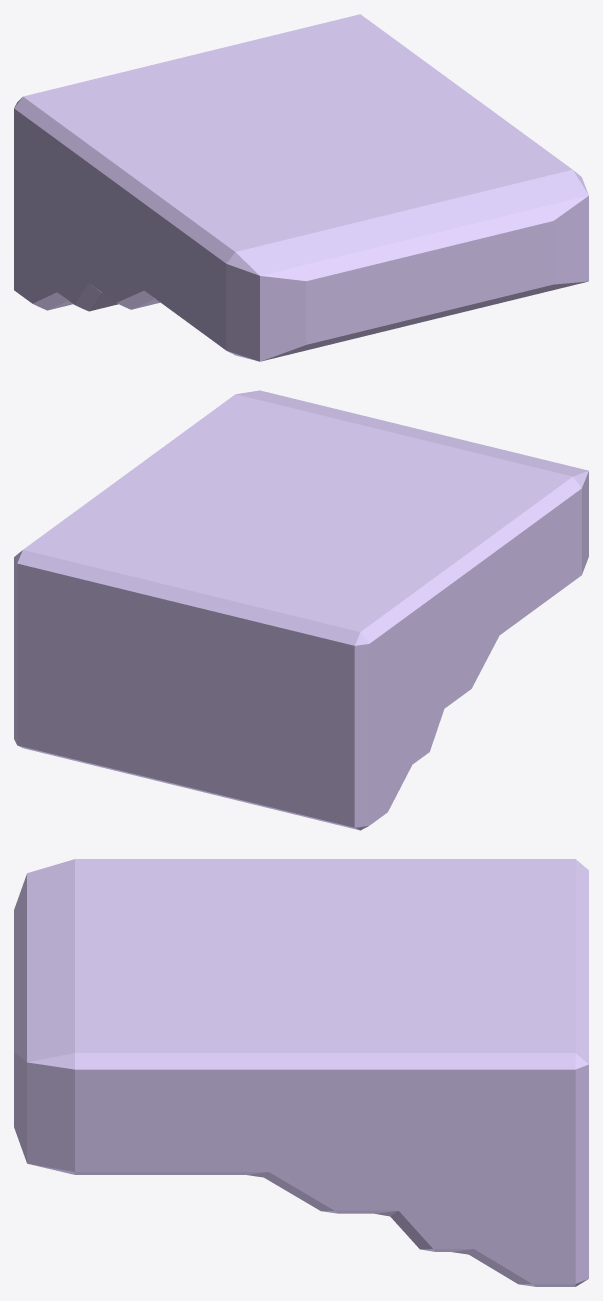
The model's file is blpn.fbx.
The picture shows the model from 3 angles, top to bottom: view 1: azimuth 30°, elevation 25°; view 2: azimuth 150°, elevation 25°; view 3: azimuth 270°, elevation 25°; orthographic projection. The views are drawn at different scales.
Parts seen in each view (by area): view 1: Cube.016; view 2: Cube.016; view 3: Cube.016.
Part boxes in pixels (x1,y1,x2,y2): Cube.016: [14, 14, 588, 361]; Cube.016: [14, 390, 588, 830]; Cube.016: [14, 859, 588, 1286].
Size of the model in its own units: 1057 by 564 by 1257.
